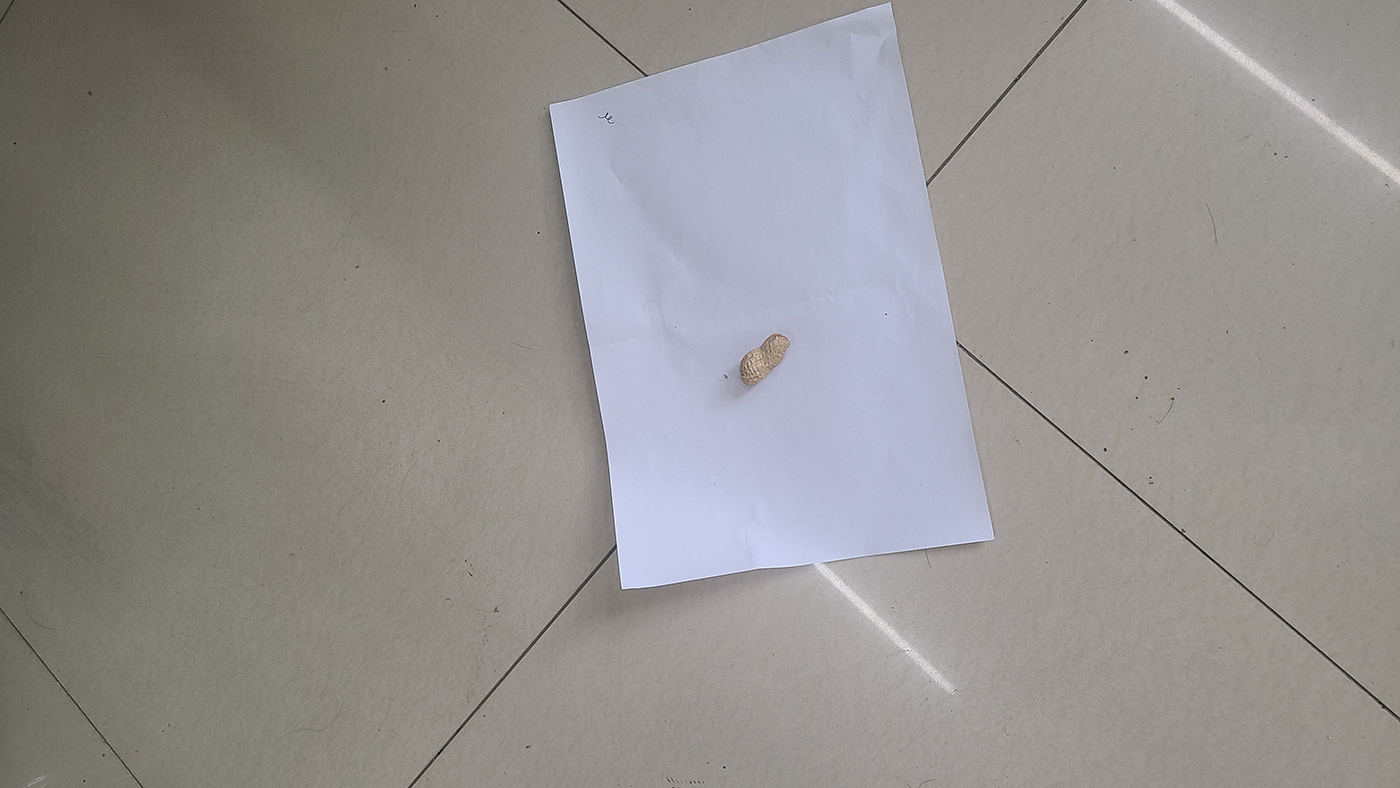h: (739, 333, 791, 386)
